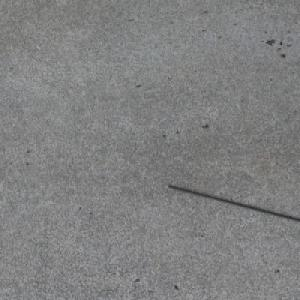LuggagePart: (166, 184, 300, 222)
